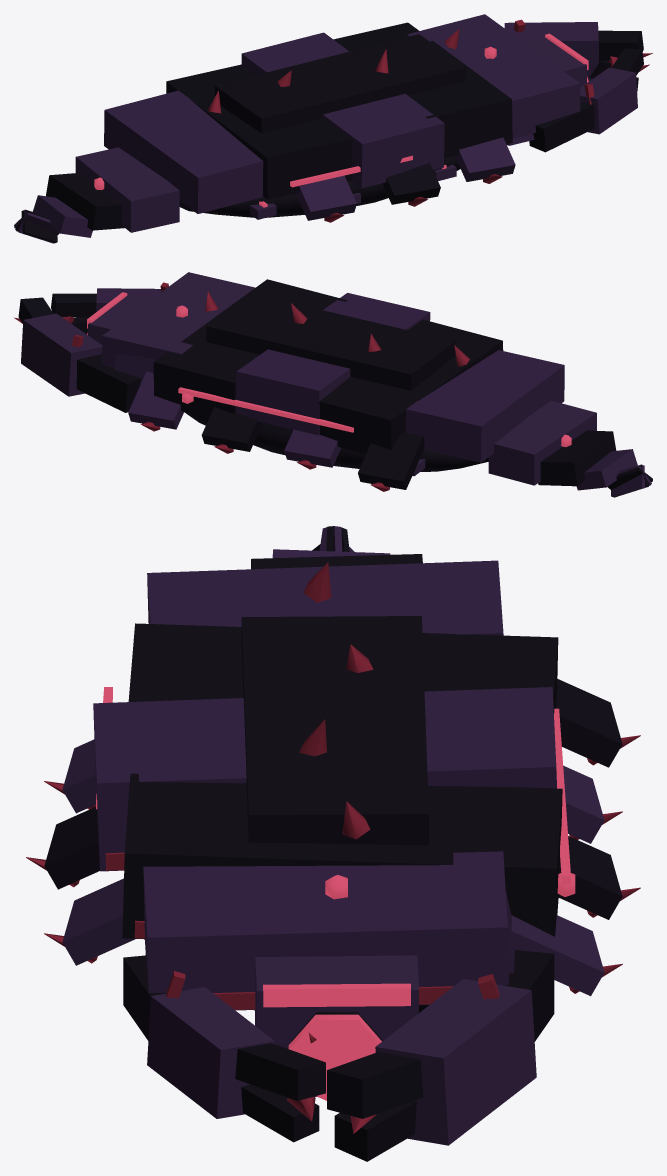
Rendered from harvester-directorate.glb.
The picture shows the model from 3 angles, top to bottom: view 1: azimuth 30°, elevation 25°; view 2: azimuth 150°, elevation 25°; view 3: azimuth 270°, elevation 25°; orthographic projection. The views are drawn at different scales.
Visible parts, largest first — view 1: dorsal_dome, carapace_4, carapace_2, carapace_0, carapace_3, carapace_1, tail_1, tail_2, claw_s_hand, claw_p_hand, cargo_gut, skirt_s2 (+11 smaller); view 2: dorsal_dome, carapace_4, carapace_2, carapace_3, carapace_1, carapace_0, tail_1, claw_p_hand, tail_2, skirt_p3, claw_p_arm, cargo_gut (+12 smaller); view 3: dorsal_dome, carapace_0, carapace_1, carapace_2, carapace_4, claw_p_hand, carapace_3, claw_s_hand, mill_housing, claw_p_finger_up, skirt_p0, skirt_p3 (+15 smaller).
Part boxes in pixels (x1,y1,x2,y2): dorsal_dome: [215, 34, 466, 133]; carapace_4: [104, 90, 263, 213]; carapace_2: [241, 32, 444, 188]; carapace_0: [407, 14, 580, 138]; carapace_3: [166, 64, 352, 199]; carapace_1: [333, 22, 512, 158]; tail_1: [75, 147, 179, 232]; tail_2: [46, 172, 124, 230]; claw_s_hand: [580, 67, 637, 134]; claw_p_hand: [504, 22, 598, 81]; cargo_gut: [179, 156, 460, 217]; skirt_s2: [296, 175, 356, 220]; dorsal_dome: [206, 293, 454, 390]; carapace_4: [406, 350, 564, 462]; carapace_2: [236, 293, 430, 435]; carapace_3: [319, 319, 503, 453]; carapace_1: [153, 279, 347, 417]; carapace_0: [102, 272, 254, 368]; tail_1: [488, 400, 596, 485]; claw_p_hand: [21, 313, 102, 396]; tail_2: [538, 430, 616, 486]; skirt_p3: [358, 432, 424, 489]; claw_p_arm: [76, 354, 141, 412]; cargo_gut: [184, 412, 488, 471]; dorsal_dome: [241, 616, 428, 845]; carapace_0: [143, 851, 508, 1010]; carapace_1: [122, 773, 562, 938]; carapace_2: [93, 687, 556, 871]; carapace_4: [147, 560, 503, 635]; claw_p_hand: [375, 978, 536, 1145]; carapace_3: [128, 623, 558, 712]; claw_s_hand: [147, 987, 274, 1118]; mill_housing: [255, 955, 418, 1096]; claw_p_finger_up: [327, 1052, 423, 1118]; skirt_p0: [511, 915, 604, 996]; skirt_p3: [556, 679, 622, 767].
Size of the model in its own units: 74.8 by 14.15 by 31.6.
